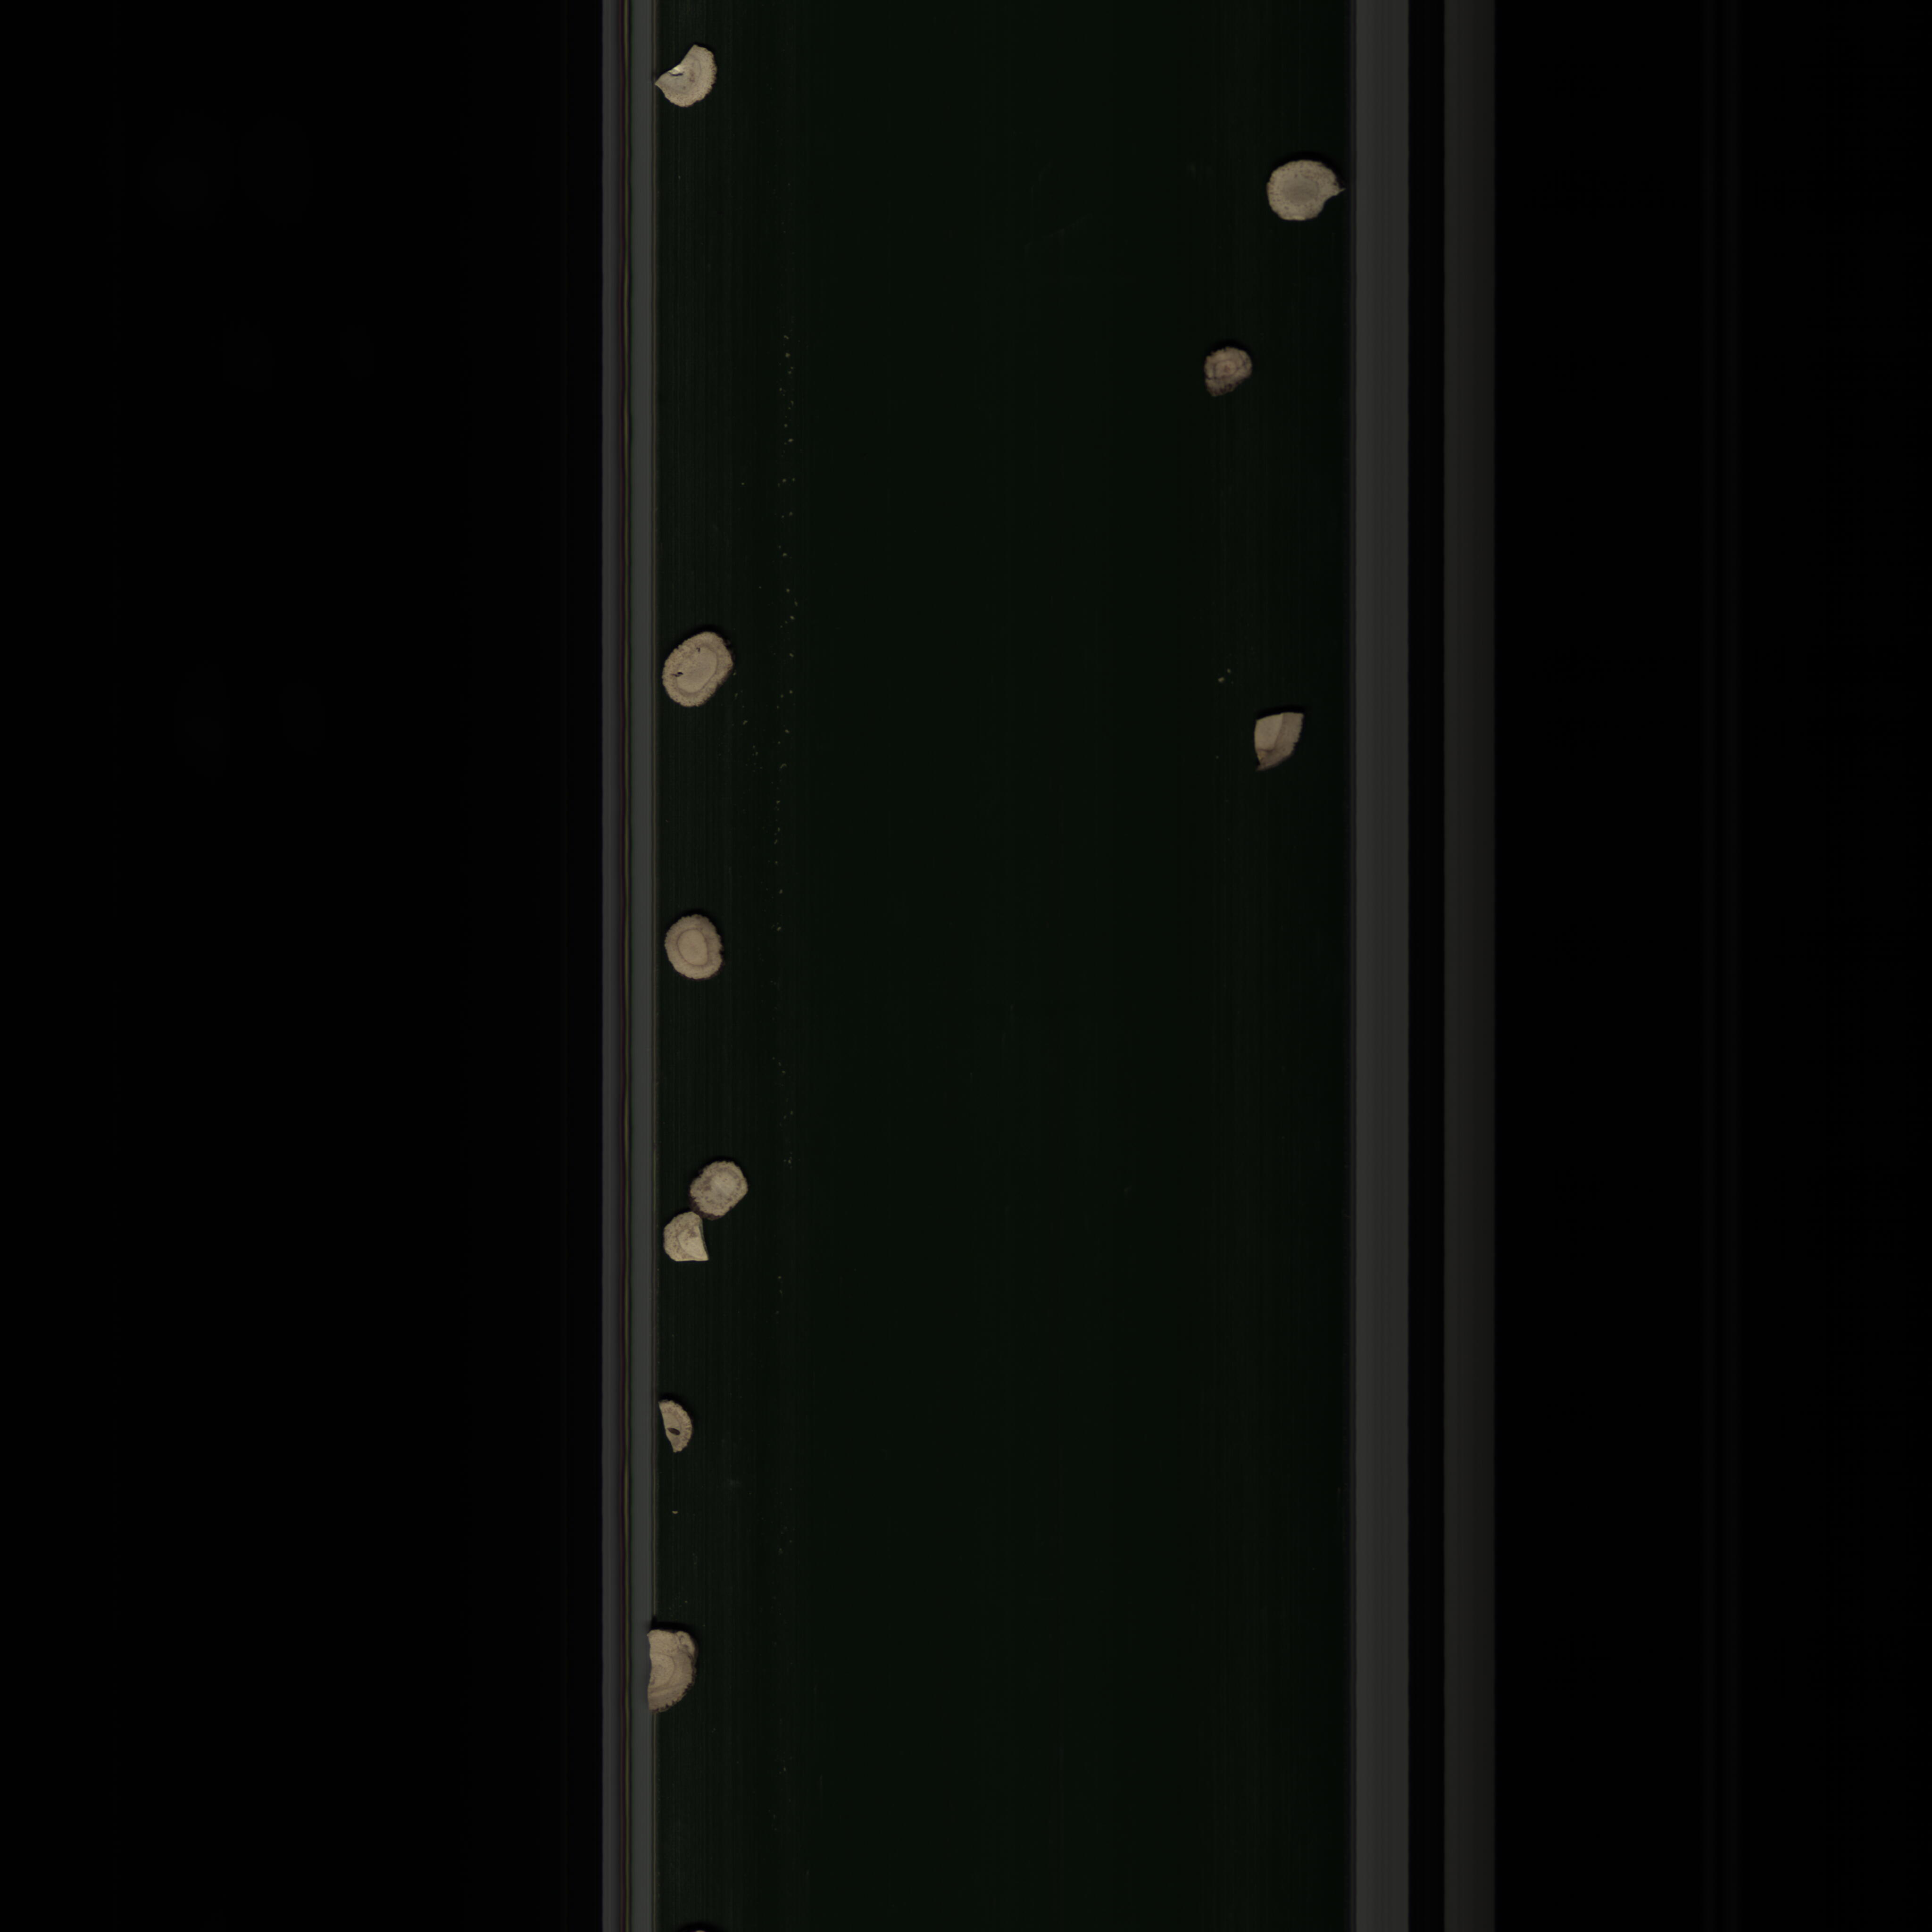debris: (651, 35, 725, 117), (642, 1628, 701, 1723), (1247, 709, 1309, 786), (660, 1208, 720, 1274)
hole: (662, 628, 745, 713), (649, 1396, 695, 1463)
moldy: (1196, 345, 1253, 403)
